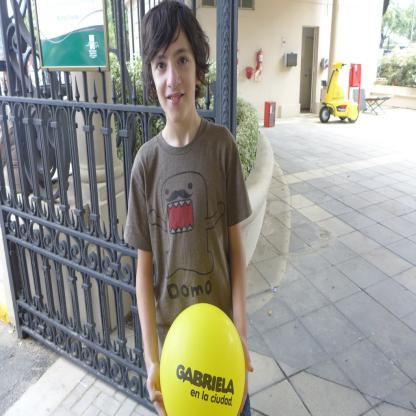Ball: (157, 302, 245, 416)
